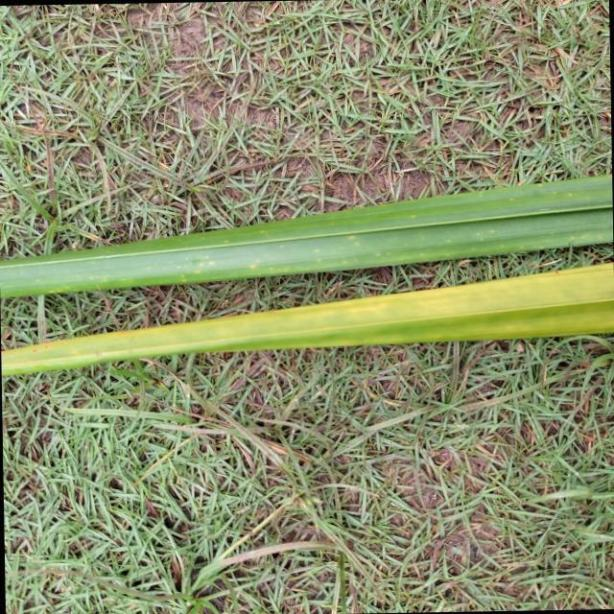nitrogen: (0, 166, 614, 299), (0, 266, 614, 378)
